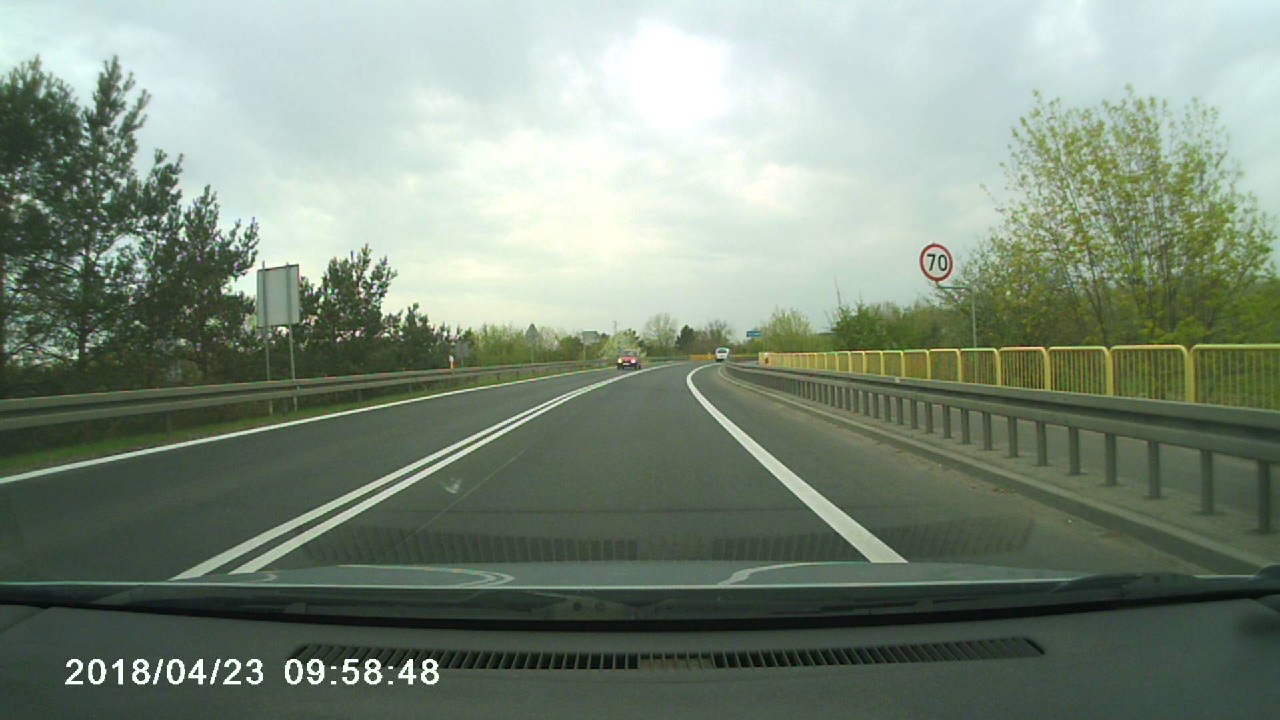B33_70: (919, 242, 953, 281)
